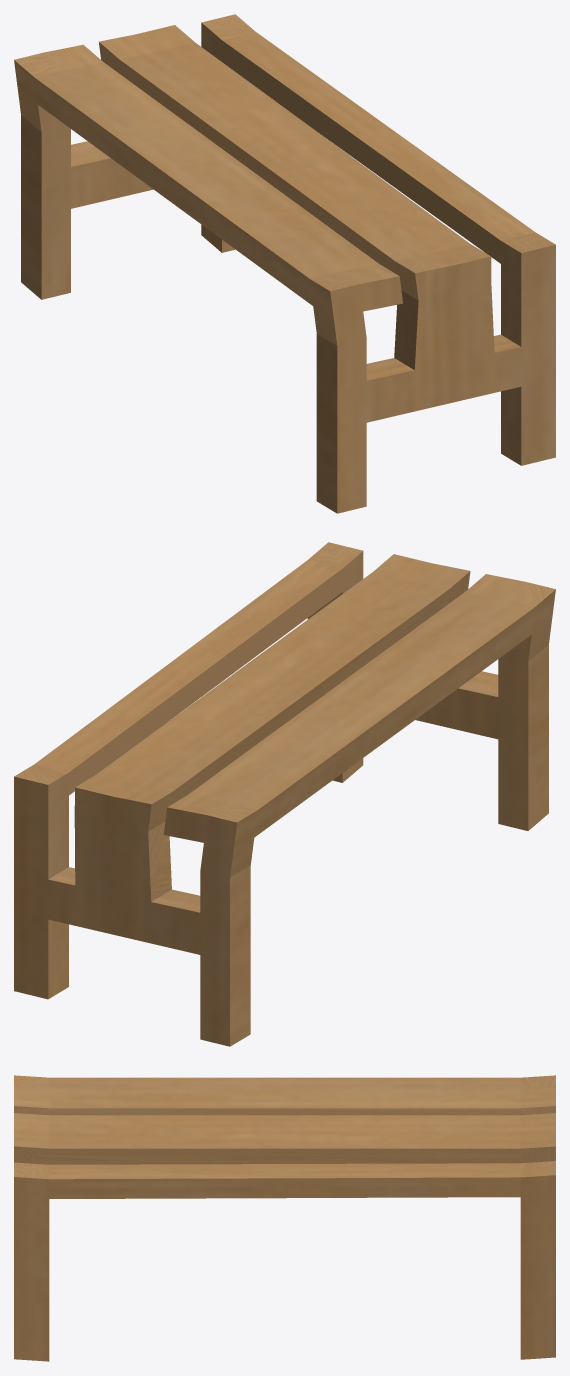
The model's file is bench2.fbx.
3 views of the same model, one above another, from view 1: azimuth 30°, elevation 25°; view 2: azimuth 150°, elevation 25°; view 3: azimuth 270°, elevation 25° (orthographic). The views are drawn at different scales.
Parts seen in each view (by area): view 1: Cube; view 2: Cube; view 3: Cube.
Boxes of the visible parts, x1=… form: Cube: x1=14, y1=14, x2=555, y2=513; Cube: x1=14, y1=542, x2=555, y2=1046; Cube: x1=14, y1=1075, x2=555, y2=1361.
Size of the model in its own units: 88.66 by 85.12 by 215.
Materials: 1 (1 with a texture image).
